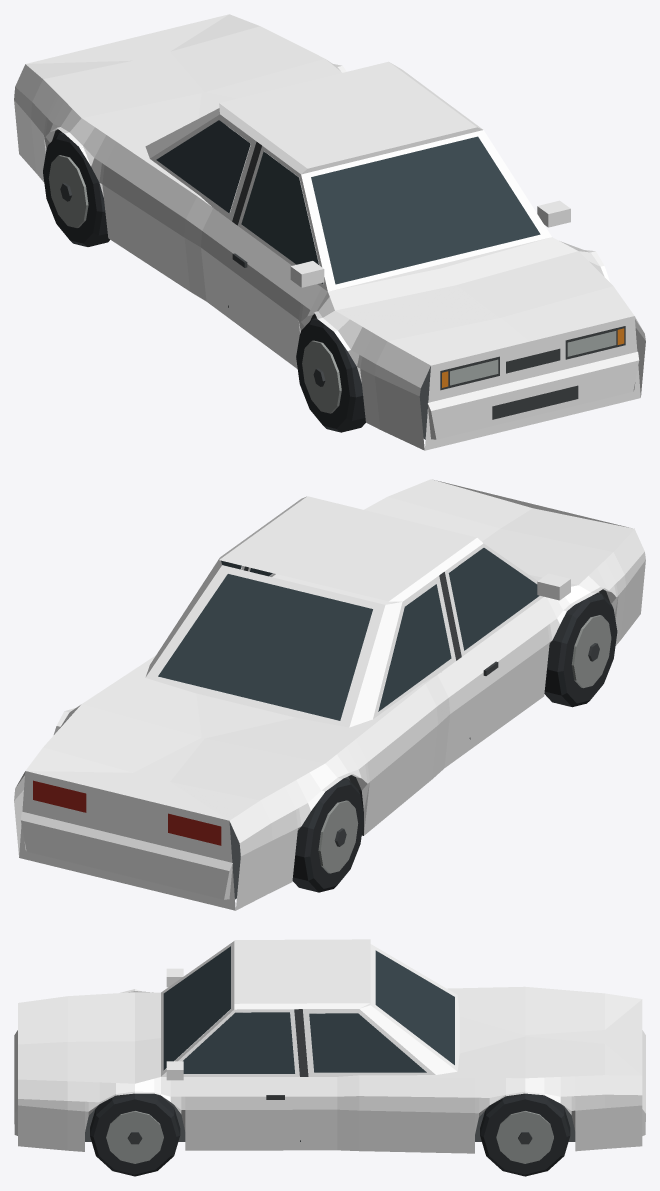
Rendered from aubrac_grive_s.glb.
3 renders of one model, top to bottom at view 1: azimuth 30°, elevation 25°; view 2: azimuth 150°, elevation 25°; view 3: azimuth 270°, elevation 25°, orthographic. The views are drawn at different scales.
Parts seen in each view (by area): view 1: aubrac_grive_s; view 2: aubrac_grive_s; view 3: aubrac_grive_s.
Boxes of the visible parts, box(x1,y1,x2,y2) form: aubrac_grive_s: box(14, 14, 645, 450); aubrac_grive_s: box(14, 479, 645, 910); aubrac_grive_s: box(14, 939, 645, 1176).
Bounding box in the file's own units: 1.73 × 1.21 × 4.42.
Materials: 8 (1 with a texture image).
